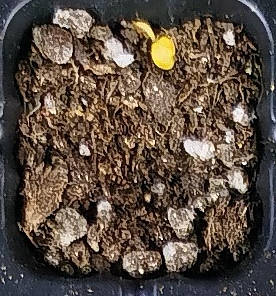pepper seed: (62, 2, 240, 73), (52, 0, 209, 40)
